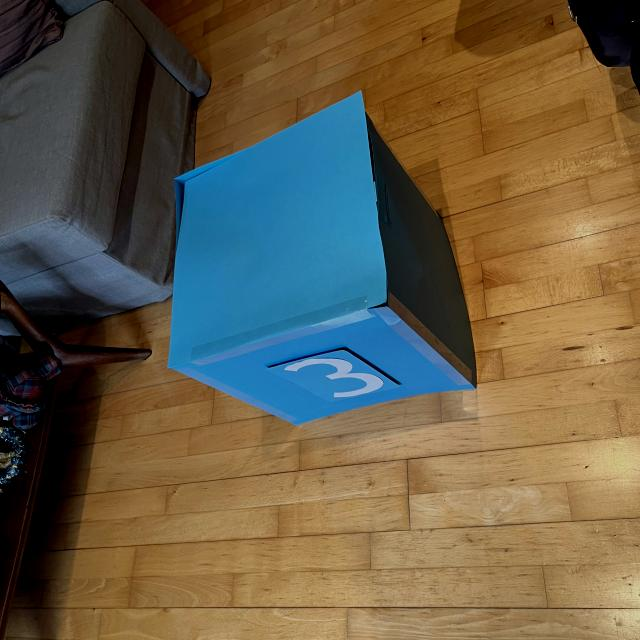box: (163, 88, 481, 428)
